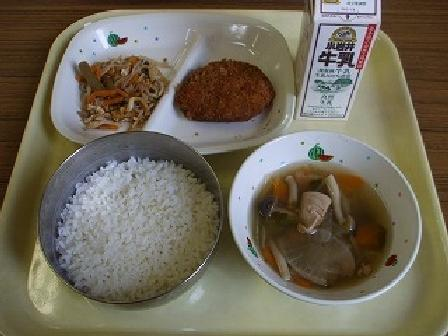Milk: (292, 0, 388, 119)
Rice: (37, 131, 208, 304)
cutlet: (176, 50, 279, 135)
salad with sauce: (80, 51, 172, 130)
vegetable soup: (225, 140, 414, 295)
